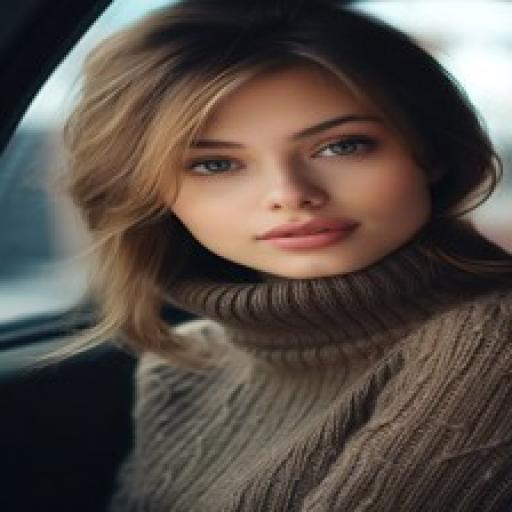human: (34, 2, 512, 512)
